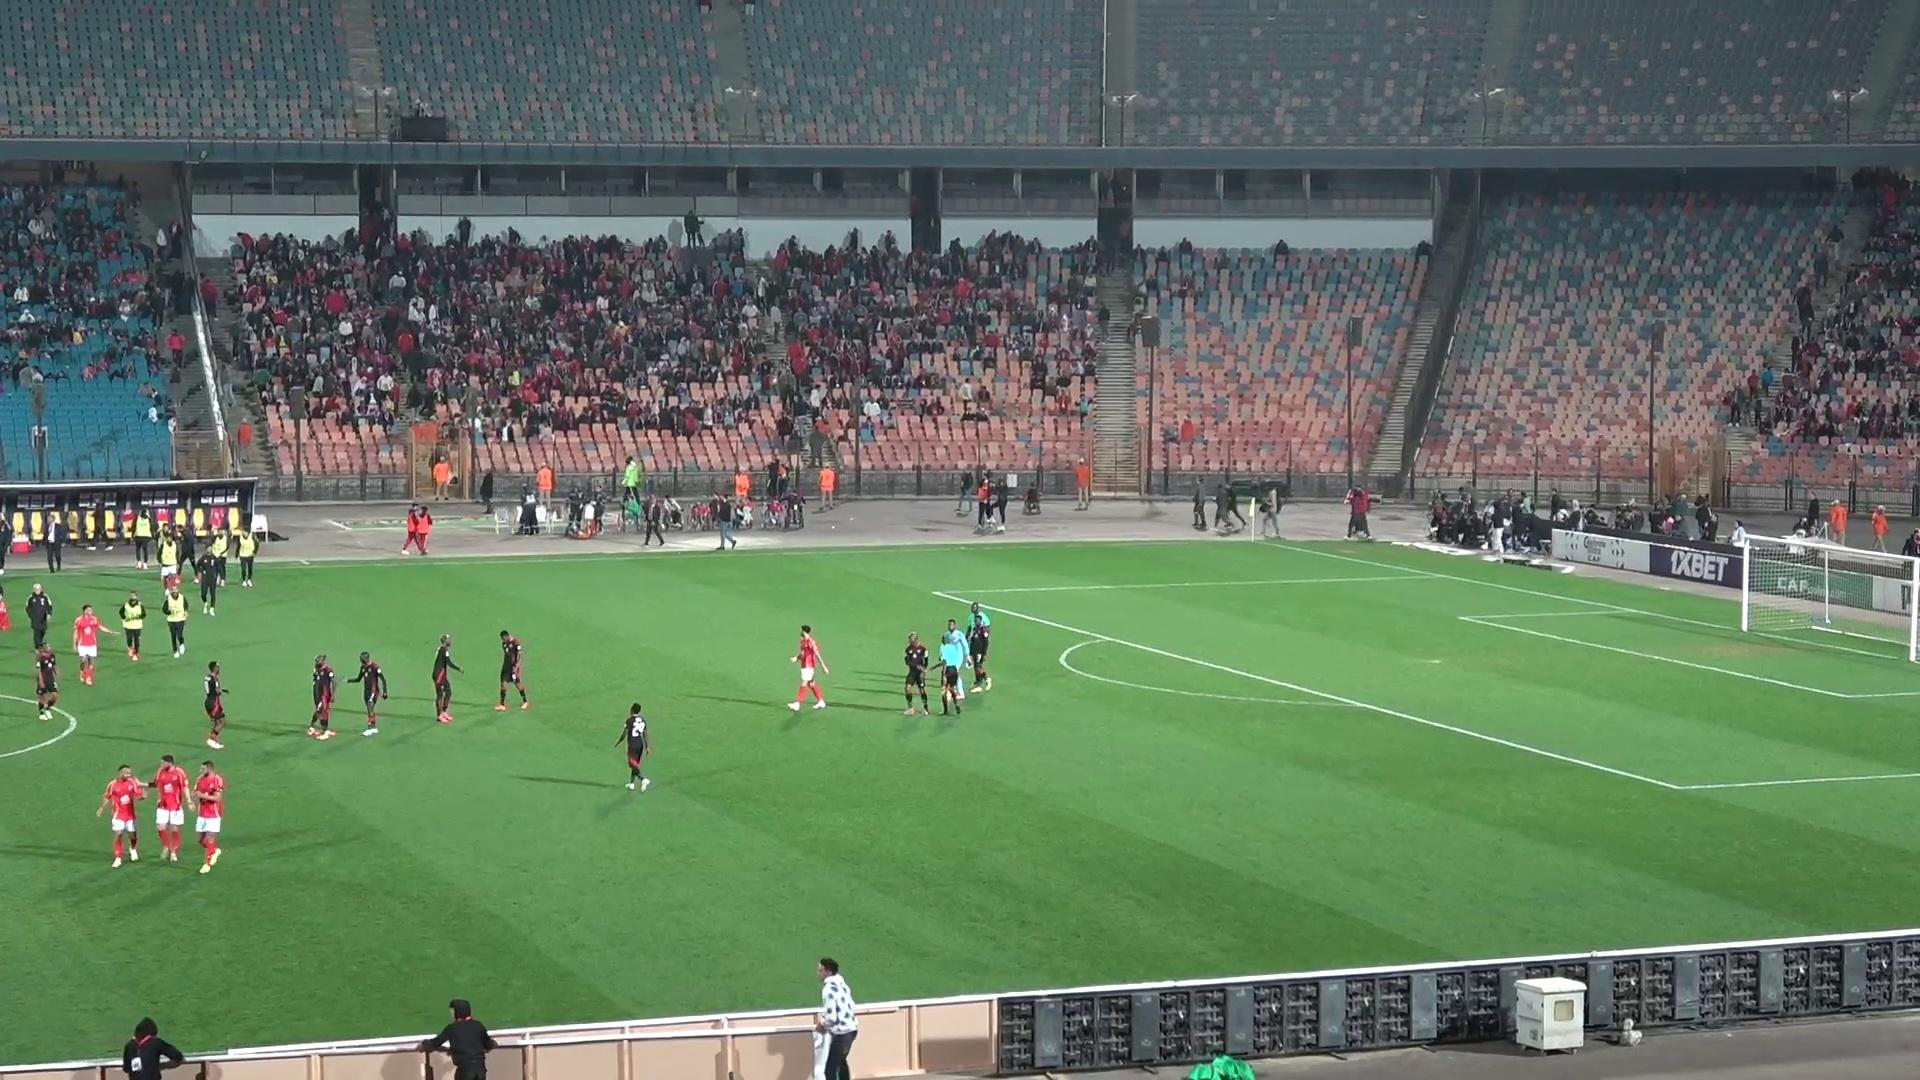Refree: (940, 626, 967, 713)
Team1: (98, 765, 146, 868), (152, 756, 190, 861), (193, 760, 225, 873), (789, 626, 829, 709), (73, 604, 112, 684), (0, 587, 12, 632)
Team2: (347, 651, 388, 735), (616, 704, 650, 790), (495, 629, 530, 709), (431, 634, 462, 723), (903, 632, 932, 715), (307, 655, 336, 738), (967, 605, 992, 692), (203, 661, 225, 749), (36, 644, 61, 719)
